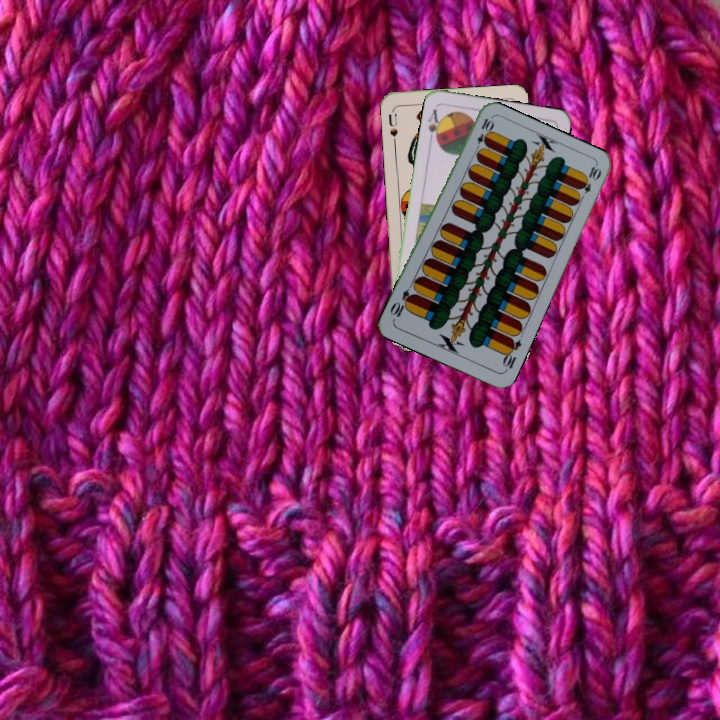E10: (498, 334, 524, 374), (471, 114, 495, 154)
SA: (424, 105, 445, 145)
SU: (384, 110, 400, 147)
